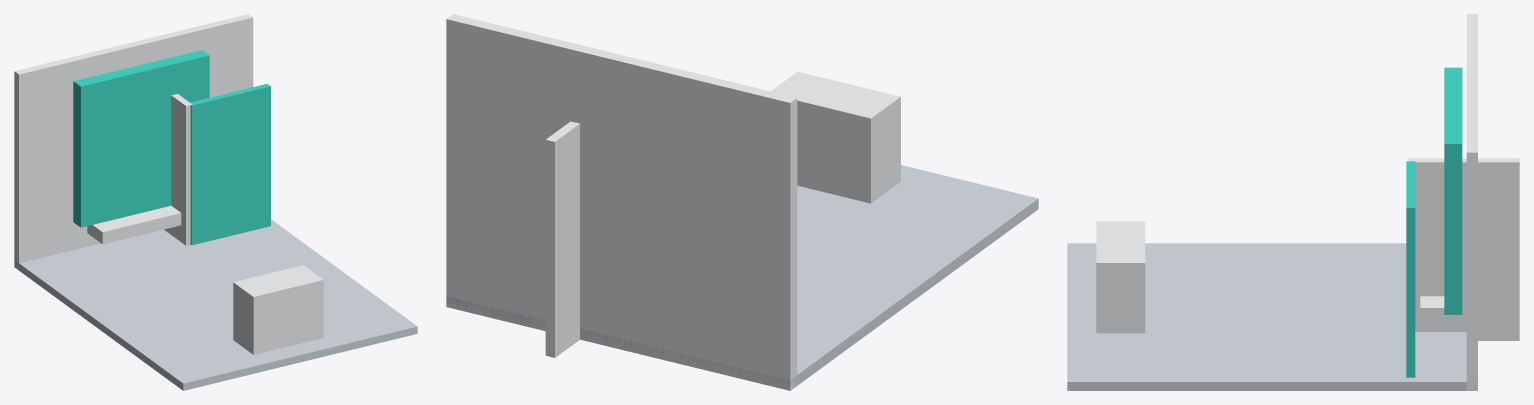
3 views of the same model, side by side, from view 1: azimuth 30°, elevation 25°; view 2: azimuth 150°, elevation 25°; view 3: azimuth 270°, elevation 25° (orthographic). The views are drawn at different scales.
Visible parts, largest first — view 1: Exhibition Booth Concept; view 2: Exhibition Booth Concept; view 3: Exhibition Booth Concept.
Boxes of the visible parts, x1=… form: Exhibition Booth Concept: x1=14, y1=14, x2=417, y2=390; Exhibition Booth Concept: x1=446, y1=14, x2=1038, y2=390; Exhibition Booth Concept: x1=1067, y1=14, x2=1519, y2=390.
Size of the model in its own units: 4 by 3.2 by 5.51.
